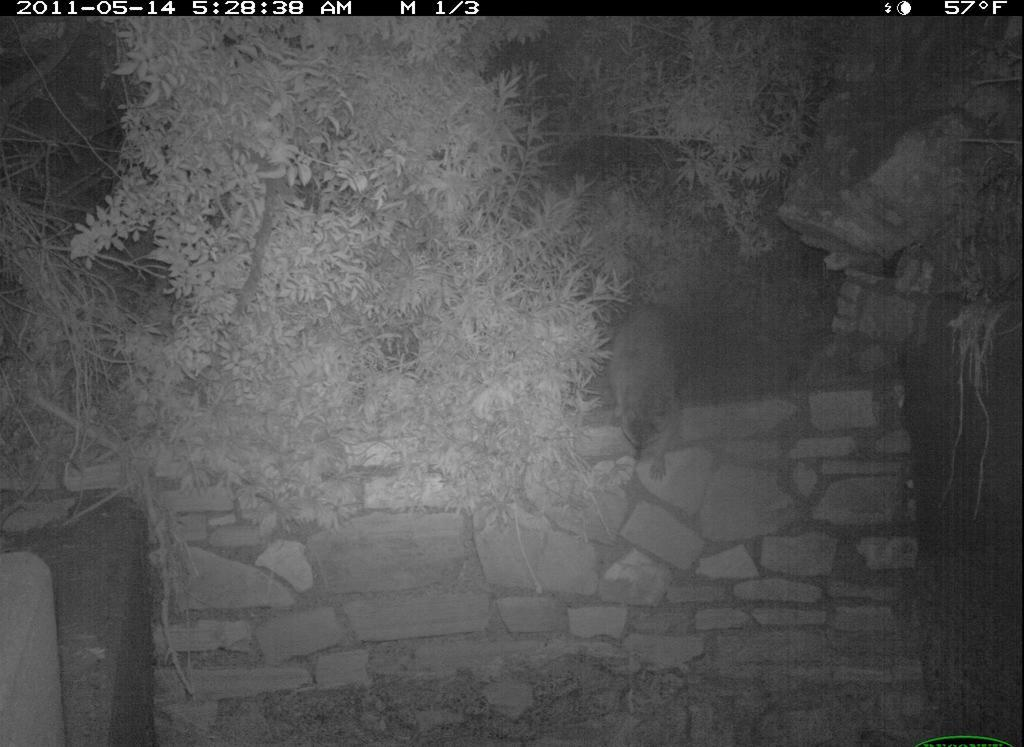raccoon: (602, 289, 692, 483)
